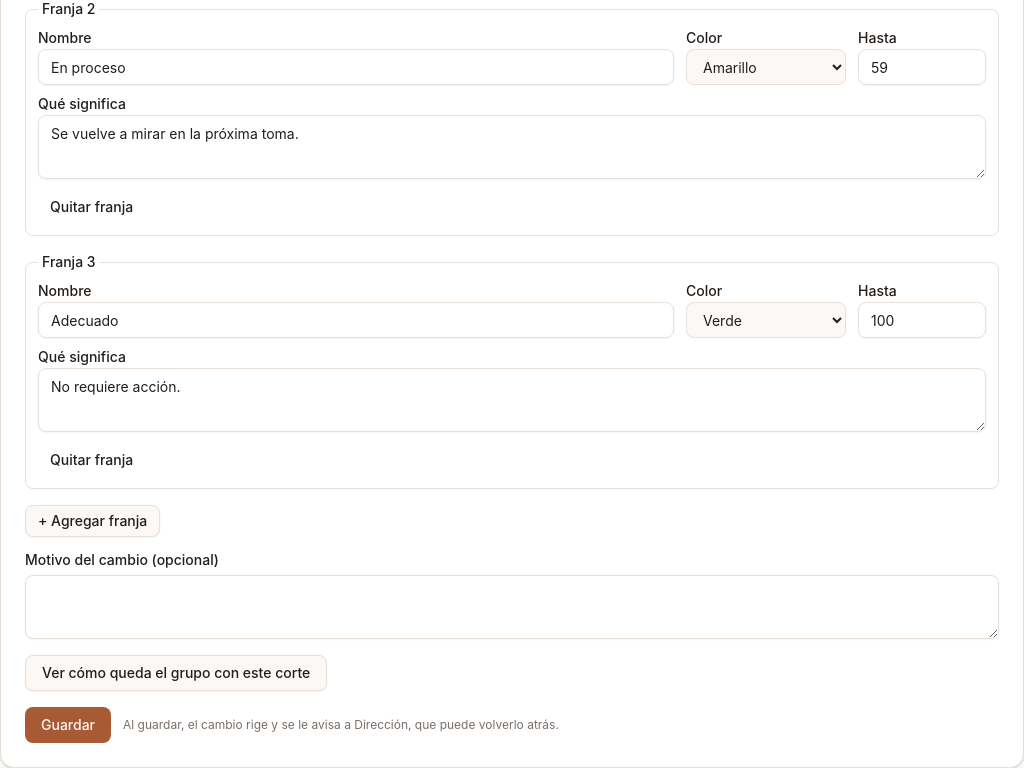
Test case: ScreeningTestDesignPage › marks a screening without population in the list and in its impact view
(page scrolled)
Click the button "Ver cómo queda el grupo con este corte" at [176, 673], box x1=25 y1=655 x2=327 y2=691
(page scrolled)
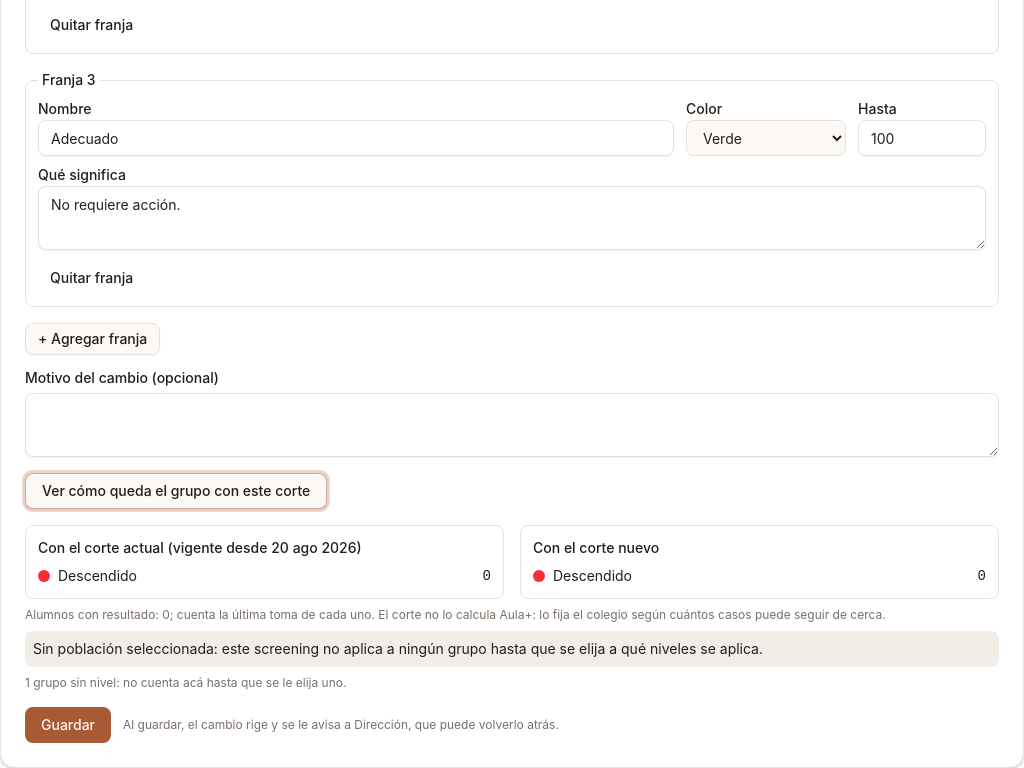
Now the text "Sin población seleccionada: este screening no aplica a ningún grupo hasta que se elija a qué niveles se aplica." is shown, box x1=33 y1=640 x2=763 y2=657
Now the text "1 grupo sin nivel: no cuenta acá hasta que se le elija uno." is shown, box x1=25 y1=675 x2=346 y2=690
